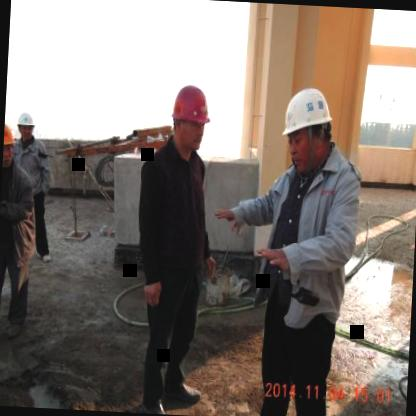helmet: (280, 84, 338, 172), (168, 82, 212, 154), (14, 110, 36, 142), (2, 120, 16, 168)
